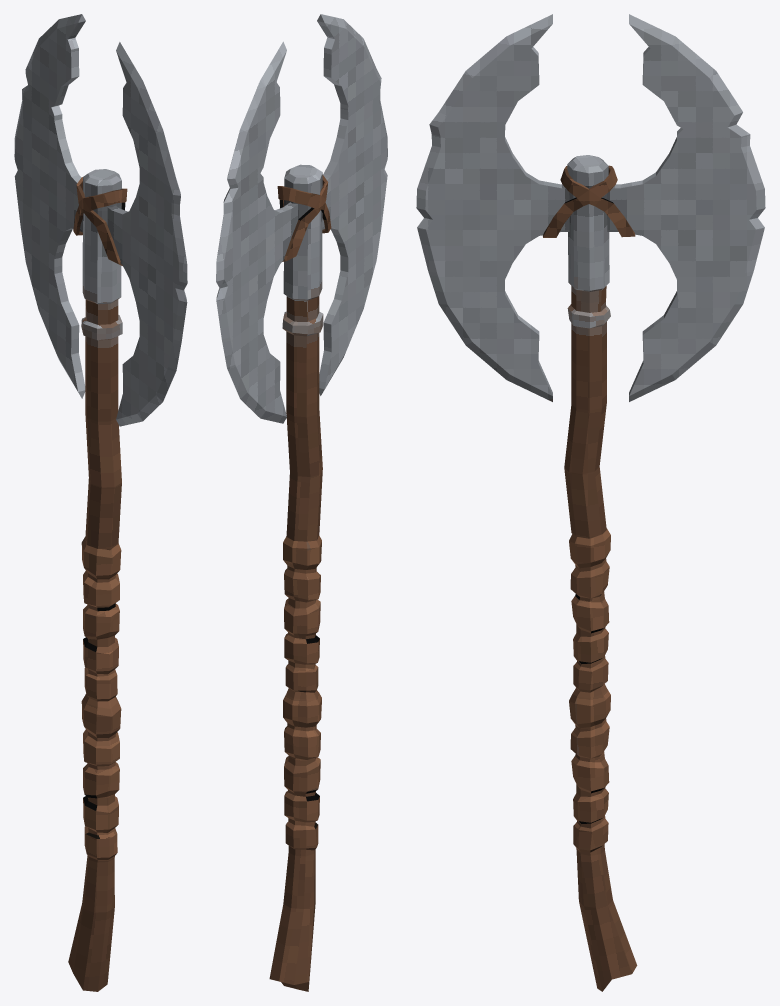
Rendered from axe_double.glb.
3 renders of one model, left to right at view 1: azimuth 30°, elevation 25°; view 2: azimuth 150°, elevation 25°; view 3: azimuth 270°, elevation 25°, orthographic.
Parts seen in each view (by area): view 1: Axe_Double; view 2: Axe_Double; view 3: Axe_Double.
Boxes of the visible parts, bbox=[...] form: Axe_Double: bbox=[14, 14, 187, 991]; Axe_Double: bbox=[216, 14, 387, 991]; Axe_Double: bbox=[416, 14, 765, 991].
Size of the model in its own units: 0.0431 by 1.05 by 0.3408.
Materials: 1 (1 with a texture image).
